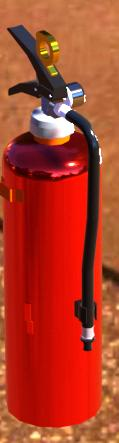fire_extinguisher: (0, 1, 119, 443)
